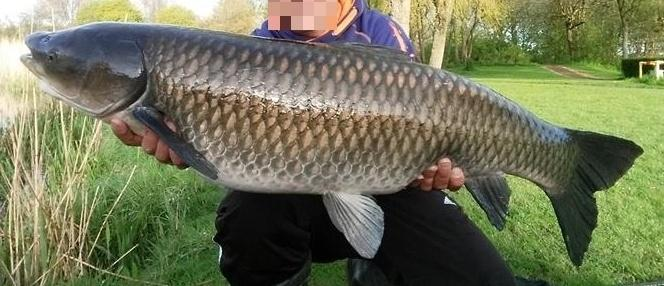Grass Carp: (17, 14, 646, 272)
